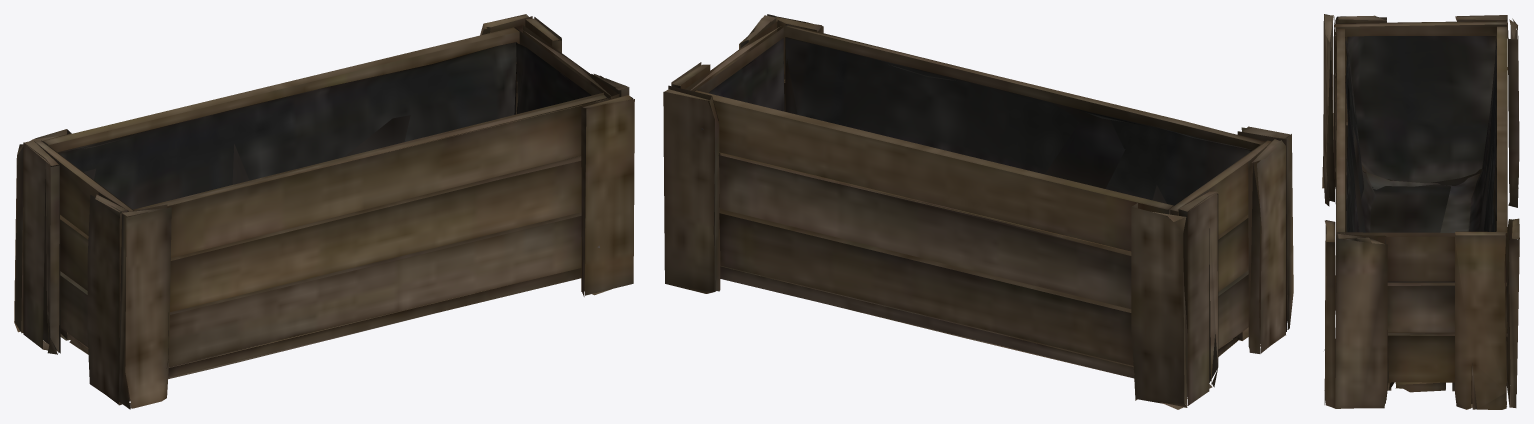
Rendered from planter_box_02.glb.
The picture shows the model from 3 angles, left to right: view 1: azimuth 30°, elevation 25°; view 2: azimuth 150°, elevation 25°; view 3: azimuth 270°, elevation 25°; orthographic projection. The views are drawn at different scales.
Parts seen in each view (by area): view 1: planter_box_02; view 2: planter_box_02; view 3: planter_box_02.
Part boxes in pixels (x1=…): planter_box_02: x1=14, y1=14, x2=634, y2=409; planter_box_02: x1=663, y1=14, x2=1293, y2=409; planter_box_02: x1=1322, y1=14, x2=1519, y2=409.
Bounding box in the file's own units: 1.25 × 0.4554 × 0.4653.
Materials: 1 (1 with a texture image).
